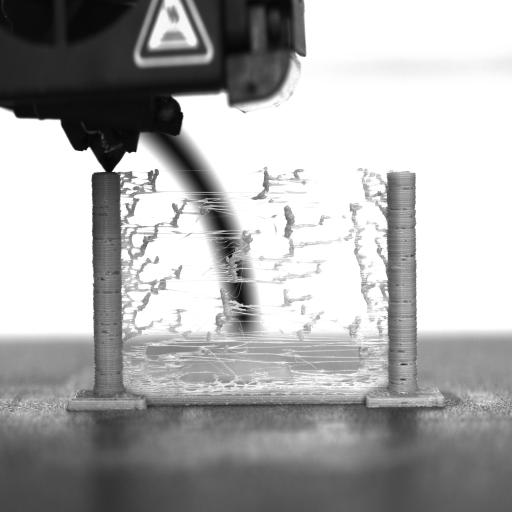spaghetti_and_stringing: (122, 168, 389, 390)
